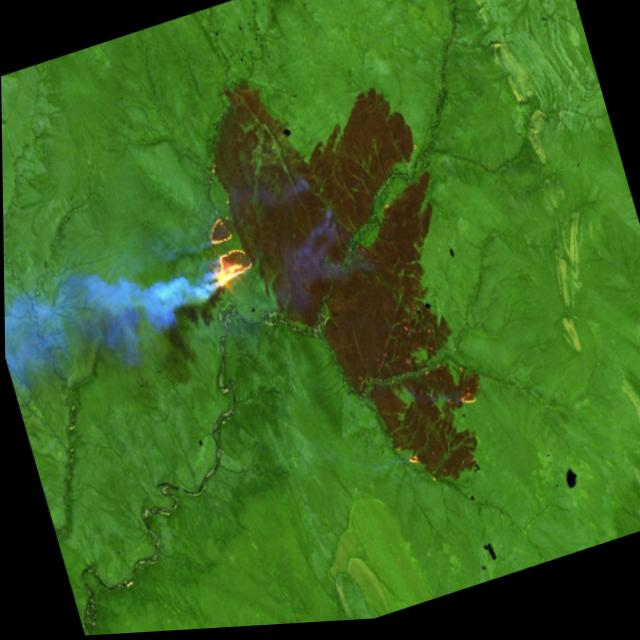fire: (185, 198, 267, 308)
